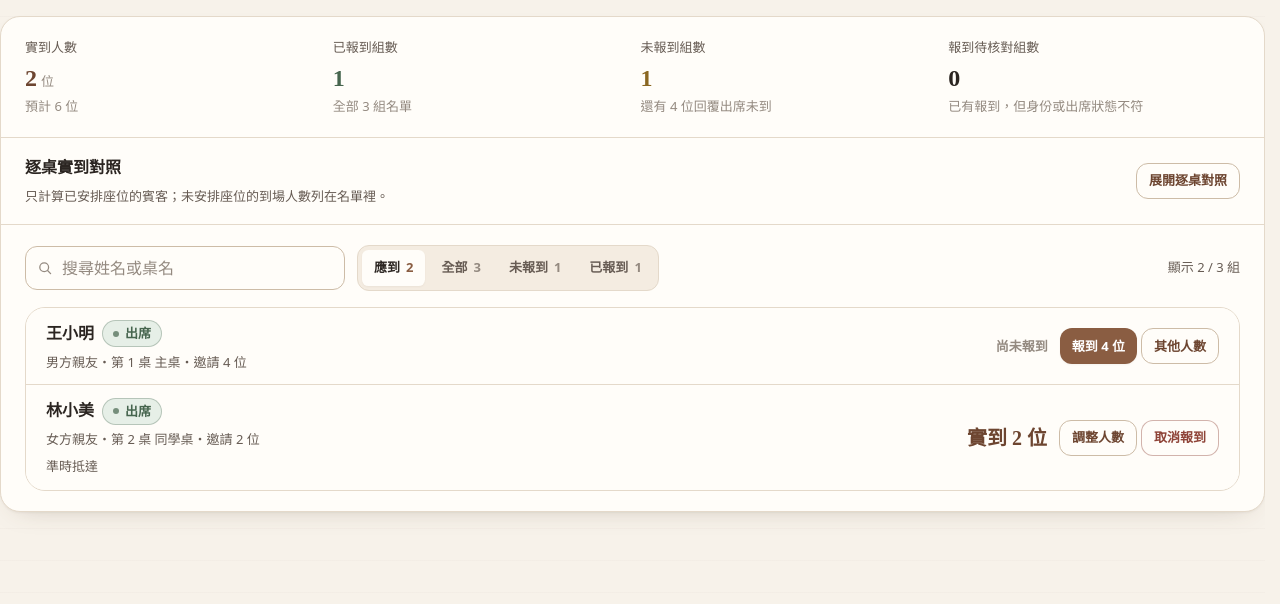
Scenario: GuestCheckInBoard › filters by check-in state and by name
The width and height of the screenshot is (1280, 604).
Click the radio button labelled "未報到 1" at {"x": 535, "y": 268}, box [497,250,573,286]
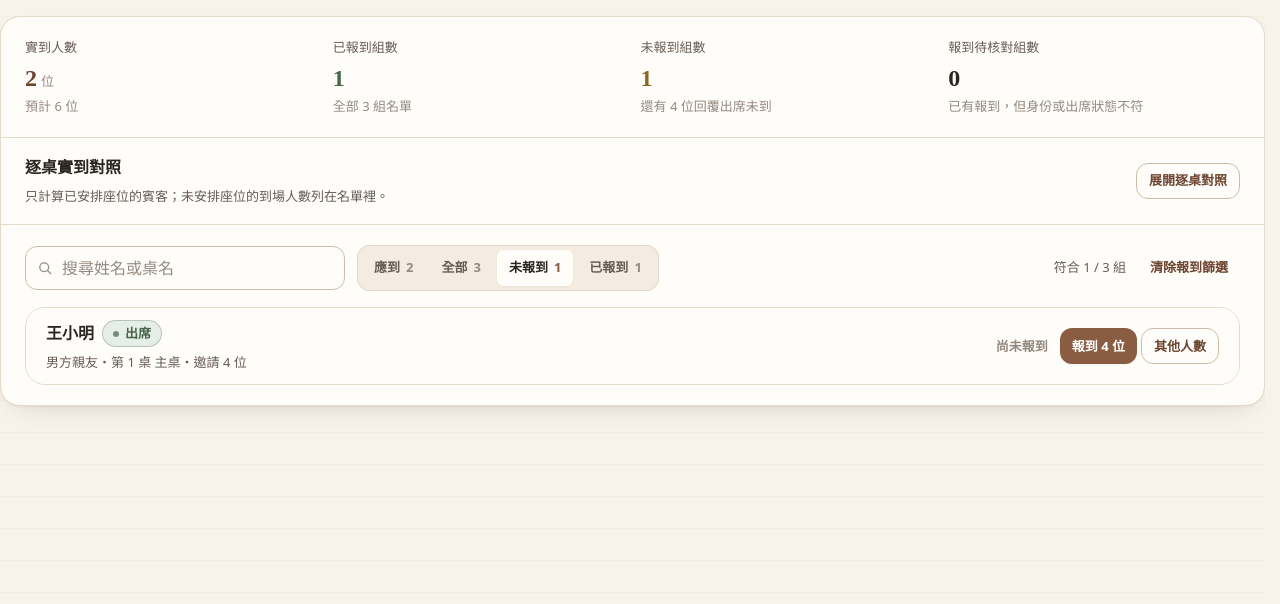
Expected: the element "王小明" is shown, [26,308,1239,384]
Result: the heading "林小美" is gone
Type "陳" into the search field named "搜尋報到名單" at {"x": 185, "y": 268}, box [25,246,345,290]
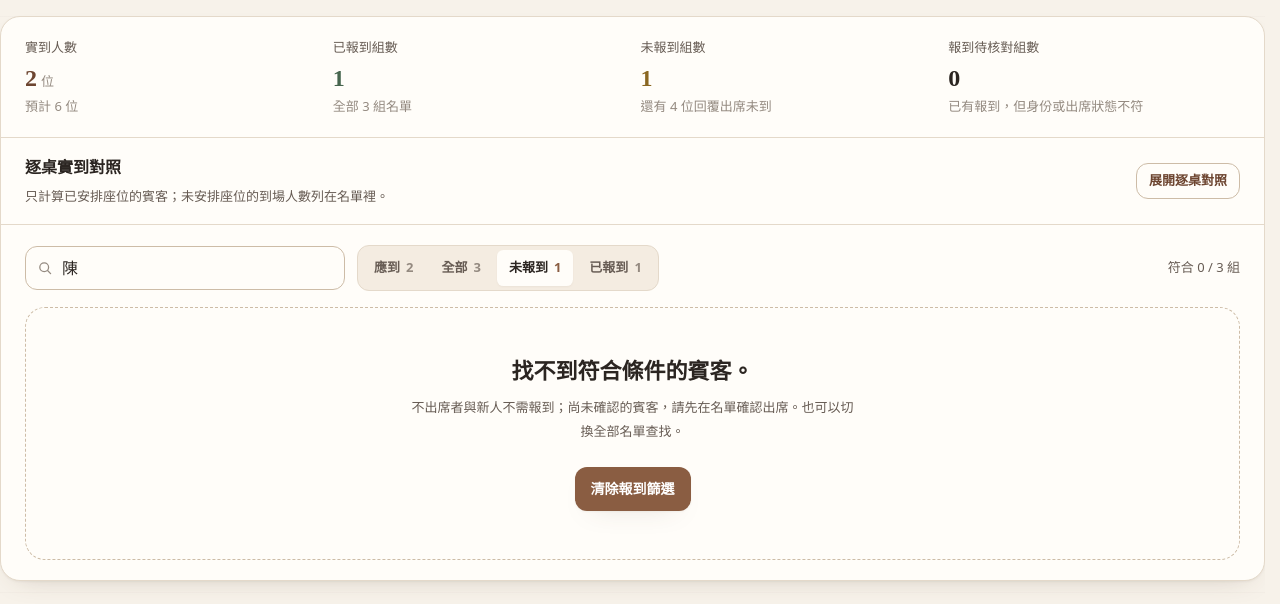
Expected: the element "陳大同" is not shown
Result: the heading "王小明" is gone
Click the radio button labelled "全部 3" at {"x": 461, "y": 268}, box [430,250,493,286]
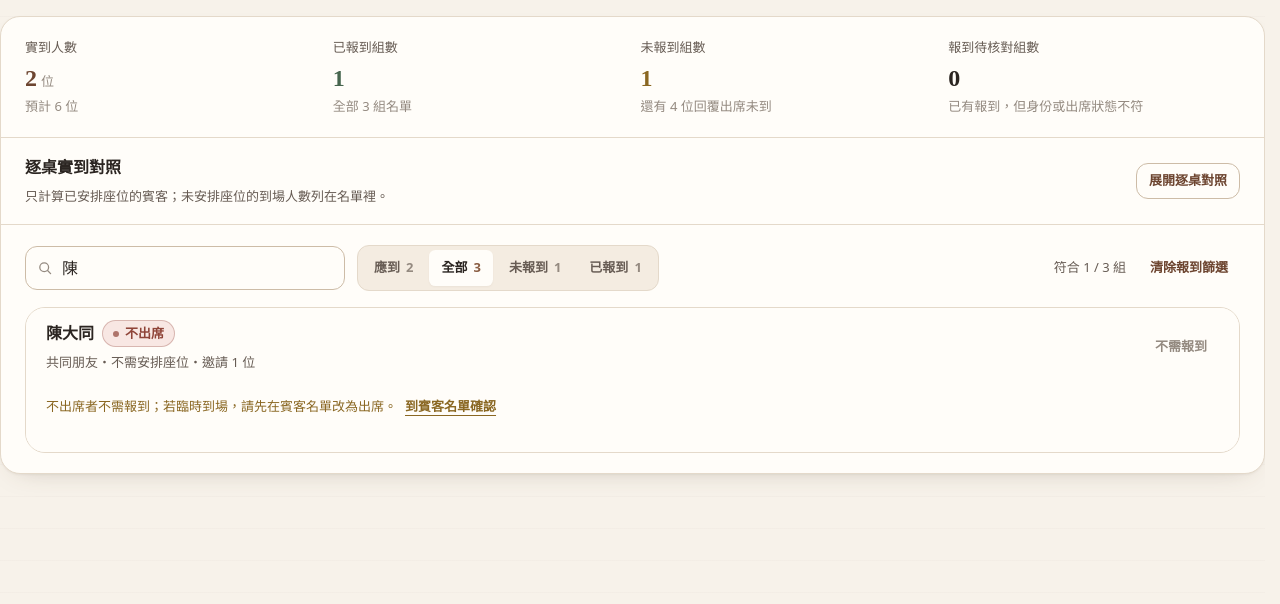
Result: the element "陳大同" is shown at [26,308,1239,452]
Result: the text "不需報到" is shown at [1155,337,1207,355]
